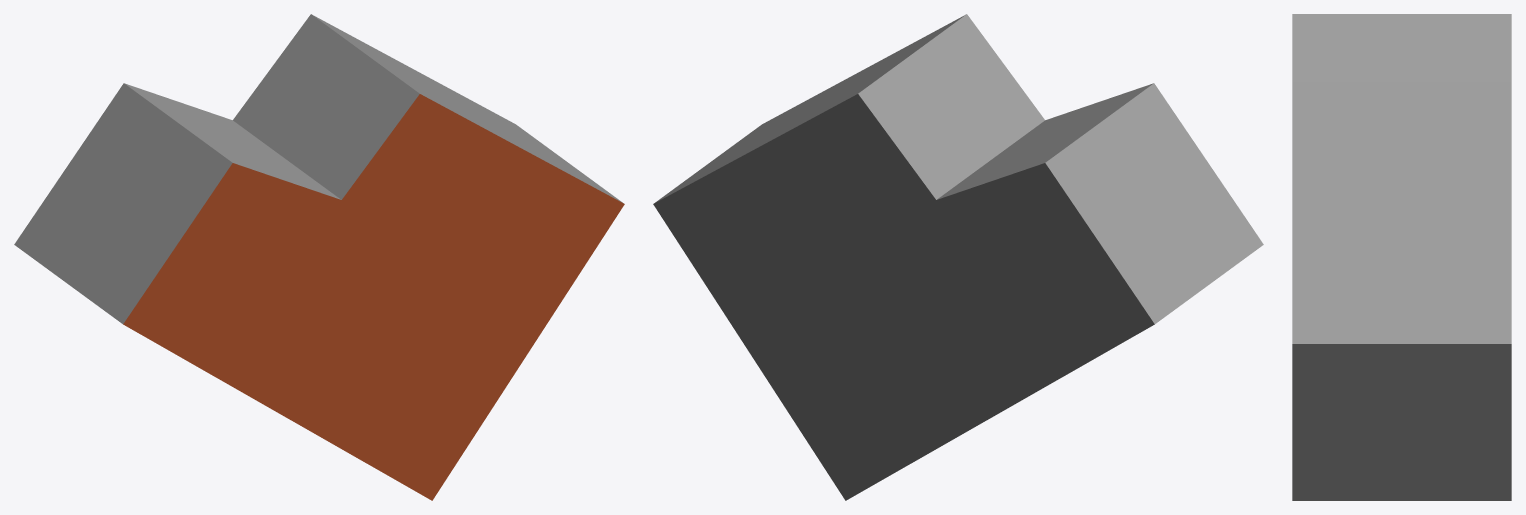
The model's file is construction_2904_assumed_A_Casa_h6m.obj.
3 views of the same model, side by side, from view 1: azimuth 30°, elevation 25°; view 2: azimuth 150°, elevation 25°; view 3: azimuth 270°, elevation 25° (orthographic).
Parts seen in each view (by area): view 1: construction_2904_assumed_A_Casa; view 2: construction_2904_assumed_A_Casa; view 3: construction_2904_assumed_A_Casa.
Boxes of the visible parts, x1,y1,x2,y2 form: construction_2904_assumed_A_Casa: [14, 14, 624, 500]; construction_2904_assumed_A_Casa: [653, 14, 1263, 500]; construction_2904_assumed_A_Casa: [1292, 14, 1511, 500].
Bounding box in the file's own units: 15.95 × 12.46 × 6.
